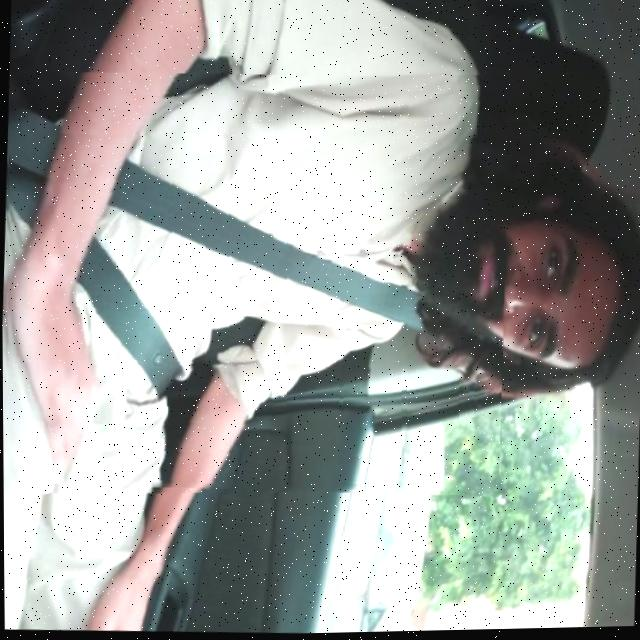seatbelt: (0, 61, 512, 506)
